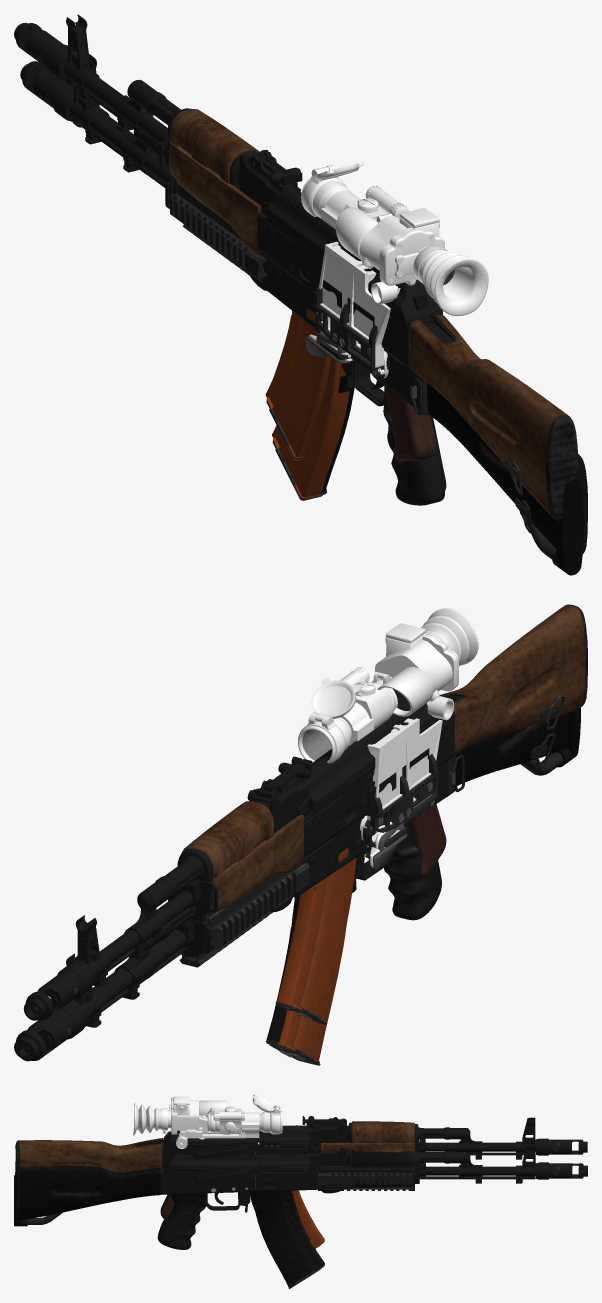
The model's file is guns.glb.
3 renders of one model, top to bottom at view 1: azimuth 30°, elevation 25°; view 2: azimuth 150°, elevation 25°; view 3: azimuth 270°, elevation 25°, orthographic. The views are drawn at different scales.
Visible parts, largest first — view 1: ak_wood, ak_tactical, ak_scoped; view 2: ak_wood, ak_tactical, ak_scoped; view 3: ak_scoped, ak_wood, ak_tactical.
Boxes of the visible parts, left/top/right/bottom form: ak_wood: left=14, top=14, right=577, bottom=520; ak_tactical: left=20, top=59, right=583, bottom=575; ak_scoped: left=28, top=54, right=587, bottom=553; ak_wood: left=23, top=604, right=587, bottom=1024; ak_tactical: left=17, top=667, right=580, bottom=1065; ak_scoped: left=14, top=608, right=577, bottom=1058; ak_scoped: left=14, top=1096, right=587, bottom=1288; ak_wood: left=15, top=1116, right=587, bottom=1249; ak_tactical: left=14, top=1094, right=587, bottom=1268.
Size of the model in its own units: 0.0877 by 0.3415 by 0.9421.
13 materials, 8 textured.
